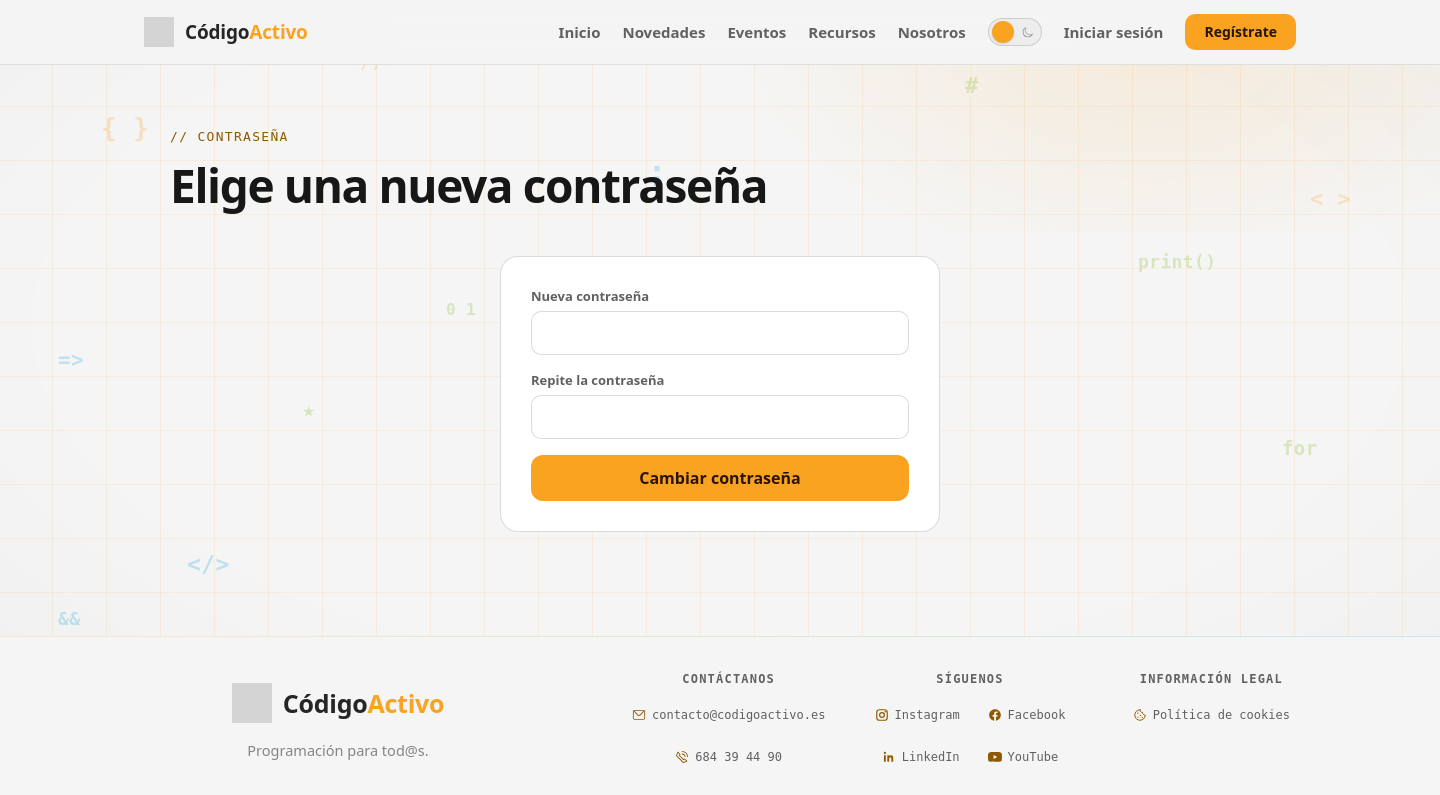
reset password page › shows the API error and a link to request a new reset email
The width and height of the screenshot is (1440, 795).
Type "correct-horse-battery" into the password field with id "reset-password". click: (720, 333)
box: x1=545 y1=312 x2=895 y2=354
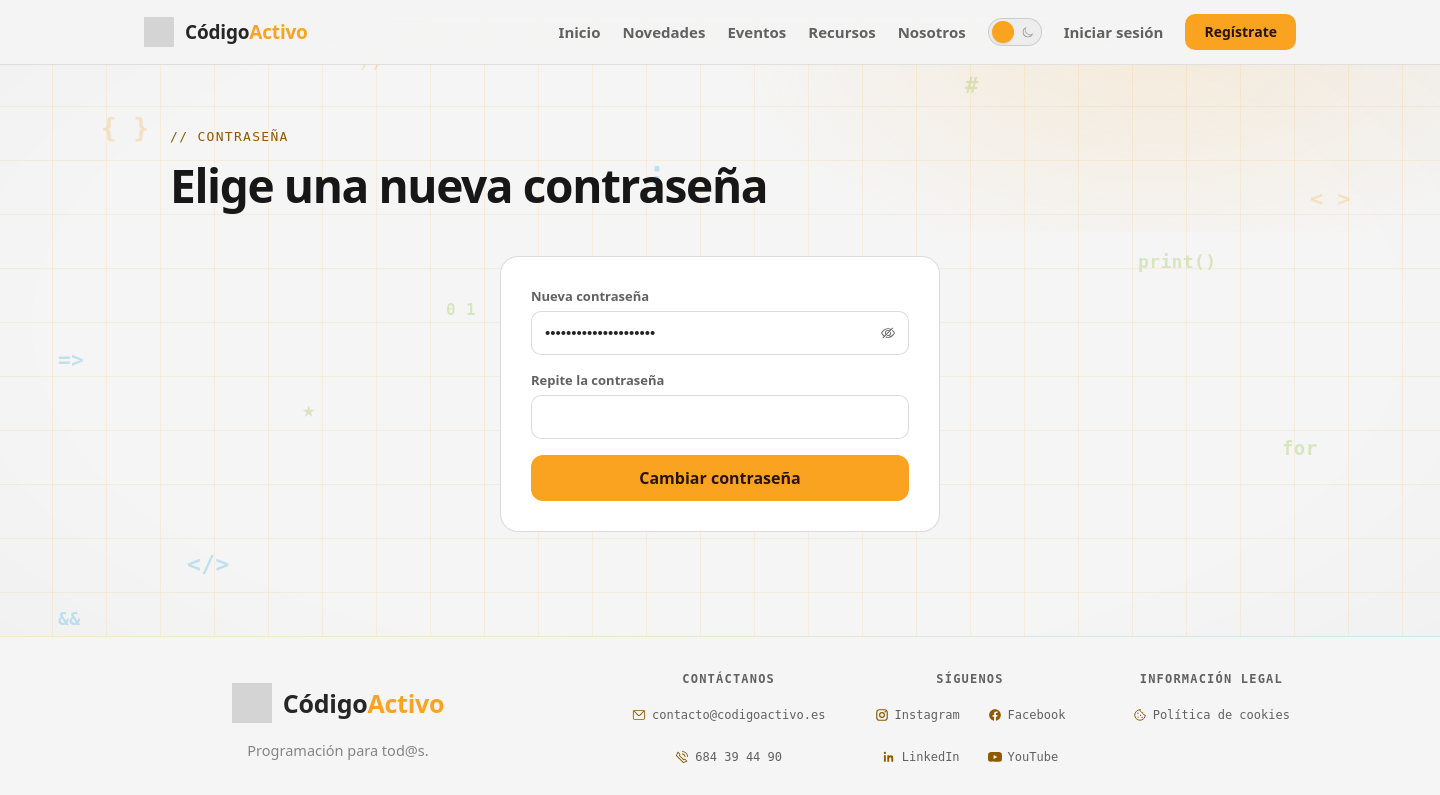
Type "correct-horse-battery" into the password field with id "reset-password-confirm". click: (720, 417)
box: x1=545 y1=396 x2=895 y2=438
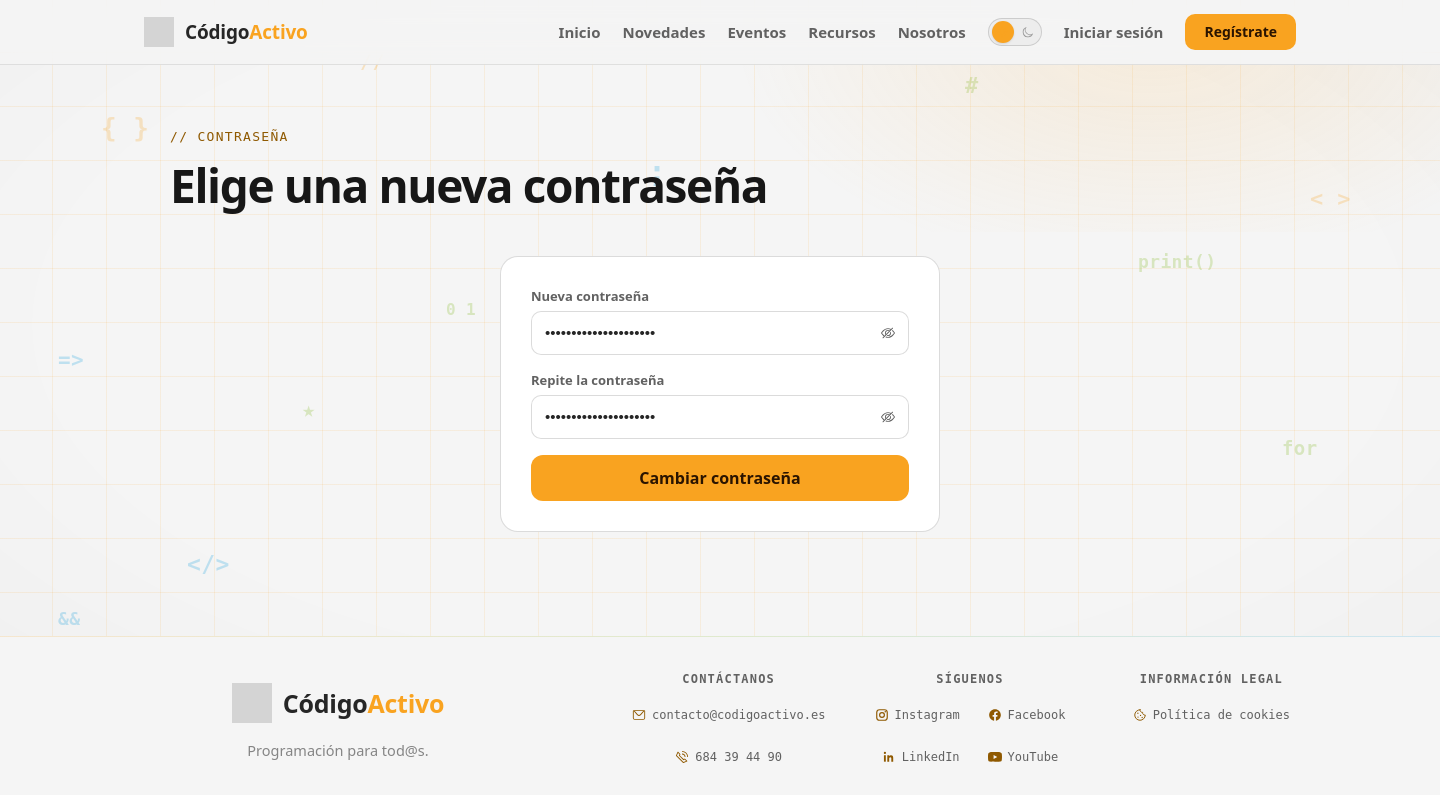
Submit the form, box x1=500 y1=256 x2=940 y2=532
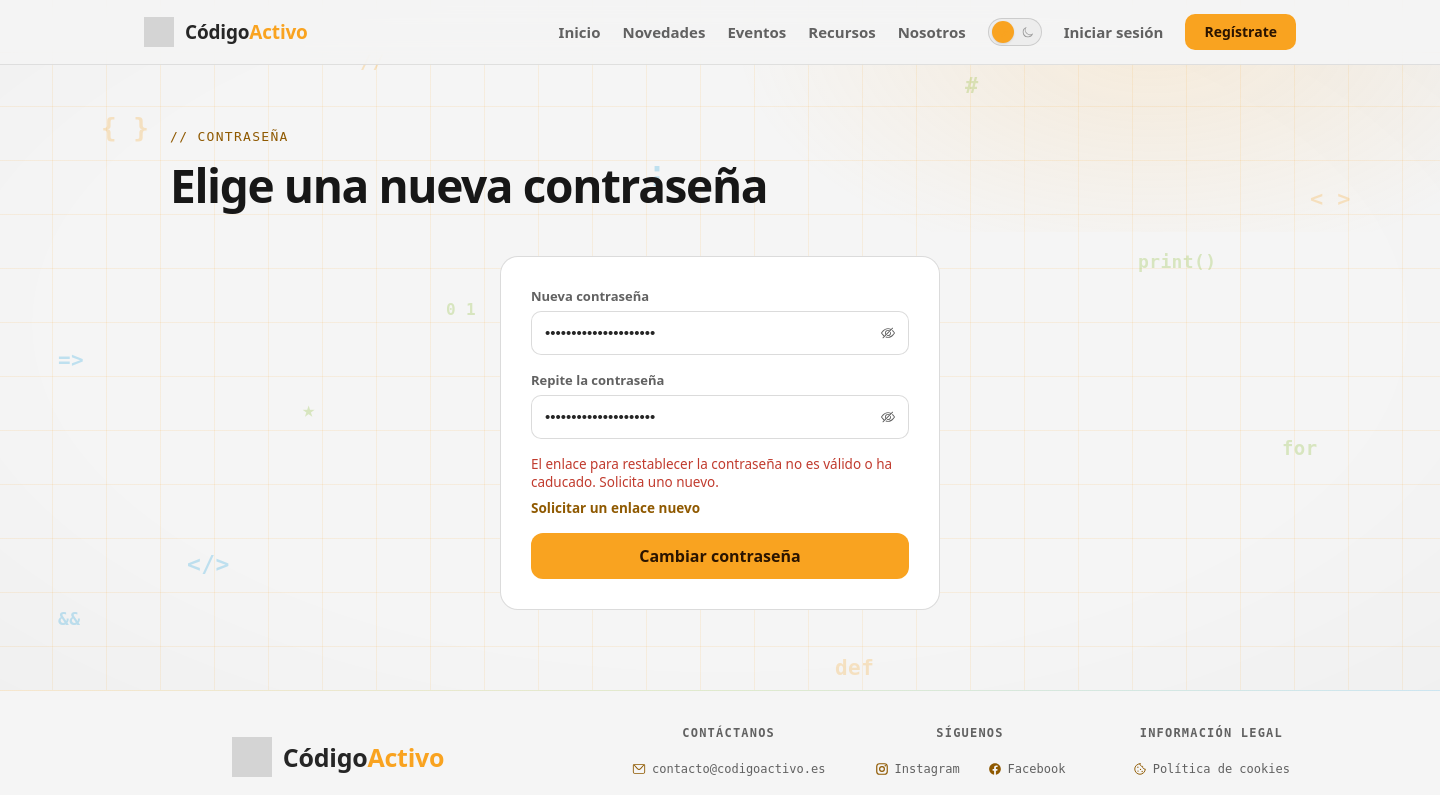
Result: the link with class "reset-request-link" is shown at x1=531 y1=499 x2=700 y2=517
Result: the message shows "El enlace para restablecer la contraseña no es válido o ha caducado. Solicita uno nuevo." at x1=531 y1=455 x2=892 y2=491
